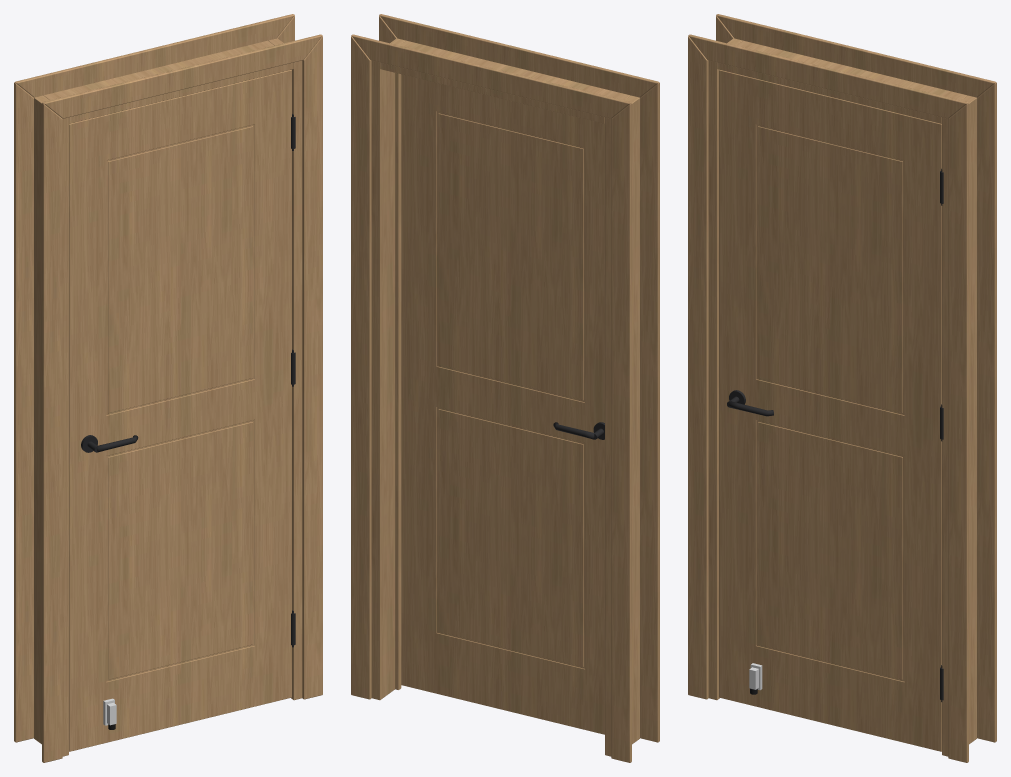
The model's file is mk_door_entry_r.glb.
The picture shows the model from 3 angles, left to right: view 1: azimuth 30°, elevation 25°; view 2: azimuth 150°, elevation 25°; view 3: azimuth 330°, elevation 25°; orthographic projection.
Parts seen in each view (by area): view 1: mk_door_entry_r_leaf_body, mk_door_entry_r_casing, mk_door_entry_r_frame, mk_door_entry_r_handle; view 2: mk_door_entry_r_leaf_body, mk_door_entry_r_casing, mk_door_entry_r_frame; view 3: mk_door_entry_r_leaf_body, mk_door_entry_r_casing, mk_door_entry_r_frame, mk_door_entry_r_handle.
Part boxes in pixels (bbox=[...]): mk_door_entry_r_leaf_body: bbox=[69, 70, 291, 751]; mk_door_entry_r_casing: bbox=[14, 14, 322, 762]; mk_door_entry_r_frame: bbox=[34, 38, 302, 756]; mk_door_entry_r_handle: bbox=[81, 435, 138, 729]; mk_door_entry_r_leaf_body: bbox=[401, 74, 604, 734]; mk_door_entry_r_casing: bbox=[351, 14, 659, 762]; mk_door_entry_r_frame: bbox=[371, 38, 639, 756]; mk_door_entry_r_leaf_body: bbox=[719, 70, 941, 751]; mk_door_entry_r_casing: bbox=[688, 14, 996, 762]; mk_door_entry_r_frame: bbox=[708, 38, 976, 756]; mk_door_entry_r_handle: bbox=[727, 390, 773, 694].
Bounding box in the file's own units: 0.9356 × 2.11 × 0.2148.
Materials: 4 (1 with a texture image).
